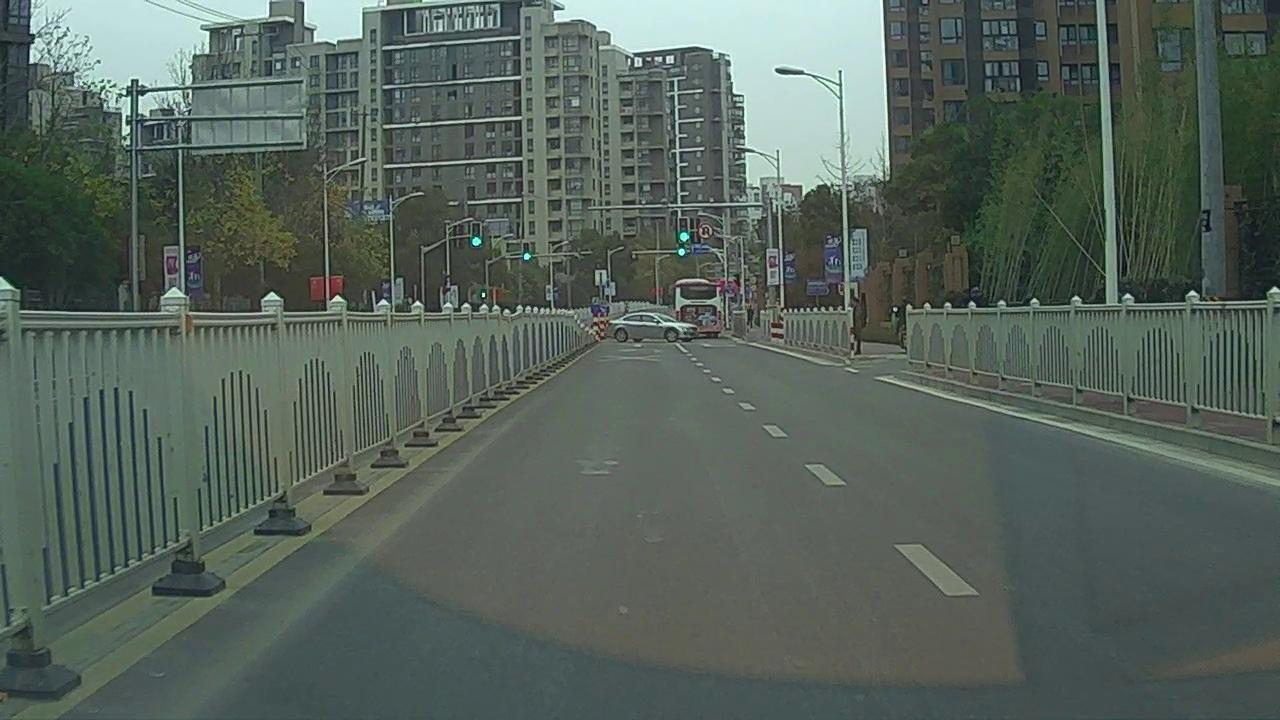traffic_light: (472, 224, 481, 247), (681, 218, 689, 242), (523, 243, 530, 260)
